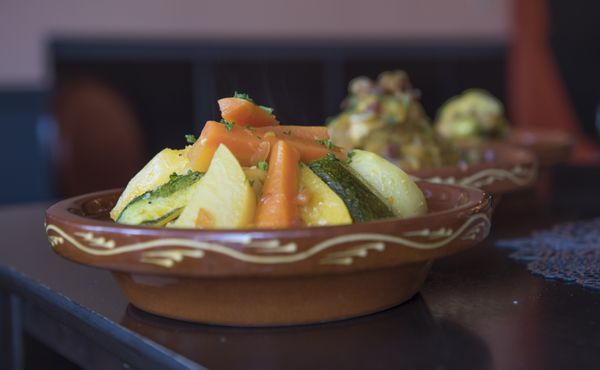sushi: (50, 179, 496, 324)
